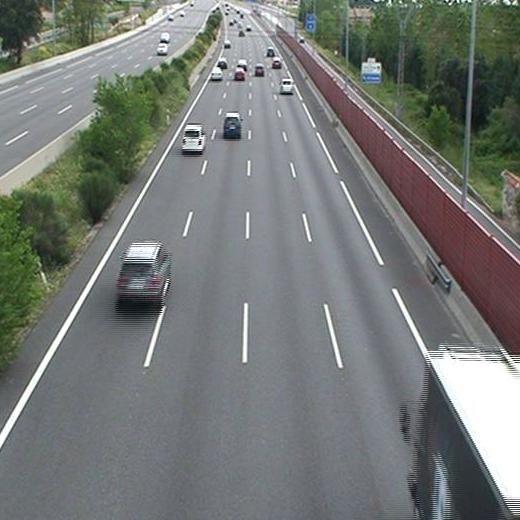car: (117, 242, 170, 295), (182, 125, 205, 150), (223, 113, 242, 133), (280, 79, 294, 92), (211, 66, 222, 79), (254, 64, 265, 75), (271, 58, 282, 68), (234, 69, 245, 79), (216, 57, 228, 66), (235, 59, 247, 66)
